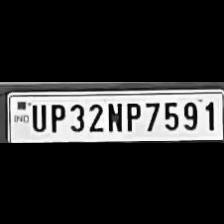1: (200, 97, 218, 130)
2: (86, 100, 104, 132)
3: (67, 99, 85, 131)
5: (160, 97, 178, 130)
7: (142, 98, 160, 132)
9: (180, 97, 198, 130)
N: (104, 98, 122, 132)
P: (122, 98, 142, 132), (47, 100, 65, 132)
U: (28, 100, 46, 132)
